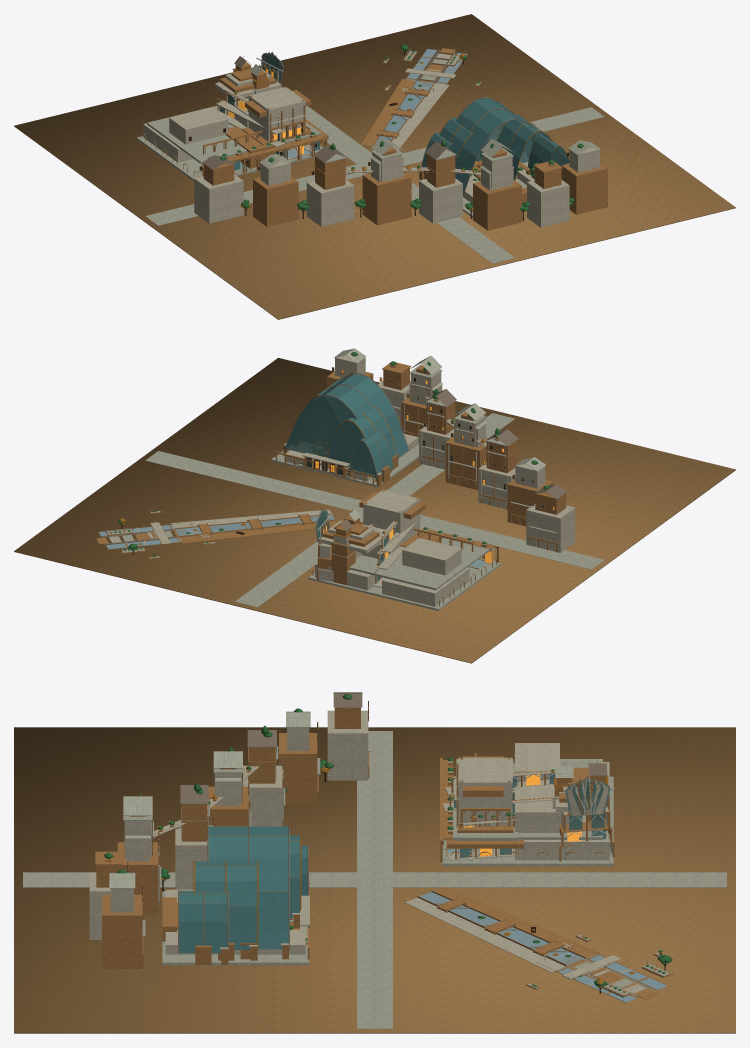
File: nakaniwa-lod1.glb
3 views of the same model, one above another, from view 1: azimuth 30°, elevation 25°; view 2: azimuth 150°, elevation 25°; view 3: azimuth 270°, elevation 25° (orthographic). The views are drawn at different scales.
Parts seen in each view (by area): view 1: HB_nakaniwa_LOD1_A21R6_CITY_terrain, HB_nakaniwa_LOD1_A21R6_CITY_wall_warm, HB_nakaniwa_LOD1_A21R6_CITY_wall, HB_nakaniwa_LOD1_A21R6_CITY_wall_cool, HB_nakaniwa_LOD1_LANDMARK_0_wall, HB_nakaniwa_LOD1_LANDMARK_1_glass, HB_nakaniwa_LOD1_LANDMARK_0_wall_warm, HB_nakaniwa_LOD1_LANDMARK_0_wall_cool, HB_nakaniwa_LOD1_A21R6_CITY_water, HB_nakaniwa_LOD1_A21R6_CITY_natural, HB_nakaniwa_LOD1_A21R6_CITY_roof, HB_nakaniwa_LOD1_LANDMARK_0_glass (+1 smaller); view 2: HB_nakaniwa_LOD1_A21R6_CITY_terrain, HB_nakaniwa_LOD1_A21R6_CITY_wall_cool, HB_nakaniwa_LOD1_A21R6_CITY_wall_warm, HB_nakaniwa_LOD1_A21R6_CITY_wall, HB_nakaniwa_LOD1_LANDMARK_1_glass, HB_nakaniwa_LOD1_LANDMARK_0_wall, HB_nakaniwa_LOD1_LANDMARK_0_wall_cool, HB_nakaniwa_LOD1_LANDMARK_0_wall_warm, HB_nakaniwa_LOD1_A21R6_CITY_water, HB_nakaniwa_LOD1_LANDMARK_1_wall, HB_nakaniwa_LOD1_LANDMARK_1_wall_warm, HB_nakaniwa_LOD1_A21R6_CITY_roof (+2 smaller); view 3: HB_nakaniwa_LOD1_A21R6_CITY_terrain, HB_nakaniwa_LOD1_A21R6_CITY_wall_cool, HB_nakaniwa_LOD1_A21R6_CITY_wall_warm, HB_nakaniwa_LOD1_LANDMARK_1_glass, HB_nakaniwa_LOD1_A21R6_CITY_wall, HB_nakaniwa_LOD1_LANDMARK_0_wall, HB_nakaniwa_LOD1_LANDMARK_0_wall_warm, HB_nakaniwa_LOD1_LANDMARK_0_wall_cool, HB_nakaniwa_LOD1_A21R6_CITY_water, HB_nakaniwa_LOD1_LANDMARK_1_wall_warm, HB_nakaniwa_LOD1_LANDMARK_0_glass, HB_nakaniwa_LOD1_LANDMARK_1_wall (+5 smaller).
Part boxes in pixels (left/top/right/bottom): HB_nakaniwa_LOD1_A21R6_CITY_terrain: left=14, top=14, right=735, bottom=319; HB_nakaniwa_LOD1_A21R6_CITY_wall_warm: left=199, top=48, right=607, bottom=230; HB_nakaniwa_LOD1_A21R6_CITY_wall: left=194, top=49, right=599, bottom=227; HB_nakaniwa_LOD1_A21R6_CITY_wall_cool: left=145, top=51, right=604, bottom=263; HB_nakaniwa_LOD1_LANDMARK_0_wall: left=143, top=52, right=320, bottom=162; HB_nakaniwa_LOD1_LANDMARK_1_glass: left=422, top=98, right=569, bottom=194; HB_nakaniwa_LOD1_LANDMARK_0_wall_warm: left=141, top=51, right=328, bottom=177; HB_nakaniwa_LOD1_LANDMARK_0_wall_cool: left=136, top=64, right=323, bottom=181; HB_nakaniwa_LOD1_A21R6_CITY_water: left=375, top=49, right=467, bottom=143; HB_nakaniwa_LOD1_A21R6_CITY_natural: left=220, top=44, right=583, bottom=211; HB_nakaniwa_LOD1_A21R6_CITY_roof: left=202, top=142, right=480, bottom=176; HB_nakaniwa_LOD1_LANDMARK_0_glass: left=219, top=52, right=319, bottom=170; HB_nakaniwa_LOD1_A21R6_CITY_terrain: left=14, top=358, right=735, bottom=663; HB_nakaniwa_LOD1_A21R6_CITY_wall_cool: left=99, top=348, right=604, bottom=607; HB_nakaniwa_LOD1_A21R6_CITY_wall_warm: left=96, top=362, right=566, bottom=559; HB_nakaniwa_LOD1_A21R6_CITY_wall: left=106, top=355, right=575, bottom=552; HB_nakaniwa_LOD1_LANDMARK_1_glass: left=285, top=374, right=408, bottom=478; HB_nakaniwa_LOD1_LANDMARK_0_wall: left=315, top=489, right=469, bottom=606; HB_nakaniwa_LOD1_LANDMARK_0_wall_cool: left=308, top=509, right=501, bottom=610; HB_nakaniwa_LOD1_LANDMARK_0_wall_warm: left=312, top=490, right=499, bottom=606; HB_nakaniwa_LOD1_A21R6_CITY_water: left=98, top=515, right=334, bottom=548; HB_nakaniwa_LOD1_LANDMARK_1_wall: left=284, top=433, right=418, bottom=481; HB_nakaniwa_LOD1_LANDMARK_1_wall_warm: left=275, top=440, right=398, bottom=486; HB_nakaniwa_LOD1_A21R6_CITY_roof: left=426, top=389, right=567, bottom=499; HB_nakaniwa_LOD1_A21R6_CITY_terrain: left=14, top=727, right=735, bottom=1033; HB_nakaniwa_LOD1_A21R6_CITY_wall_cool: left=23, top=711, right=726, bottom=1028; HB_nakaniwa_LOD1_A21R6_CITY_wall_warm: left=95, top=700, right=673, bottom=1003; HB_nakaniwa_LOD1_LANDMARK_1_glass: left=179, top=826, right=307, bottom=953; HB_nakaniwa_LOD1_A21R6_CITY_wall: left=89, top=710, right=672, bottom=994; HB_nakaniwa_LOD1_LANDMARK_0_wall: left=442, top=743, right=614, bottom=860; HB_nakaniwa_LOD1_LANDMARK_0_wall_warm: left=440, top=753, right=615, bottom=862; HB_nakaniwa_LOD1_LANDMARK_0_wall_cool: left=442, top=759, right=613, bottom=866; HB_nakaniwa_LOD1_A21R6_CITY_water: left=419, top=892, right=666, bottom=1002; HB_nakaniwa_LOD1_LANDMARK_1_wall_warm: left=162, top=882, right=309, bottom=964; HB_nakaniwa_LOD1_LANDMARK_0_glass: left=454, top=773, right=610, bottom=859; HB_nakaniwa_LOD1_LANDMARK_1_wall: left=165, top=889, right=309, bottom=954.
Size of the model in its own units: 320 by 53.09 by 320.
Materials: 12 (9 with a texture image).
